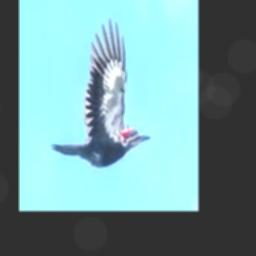Woodpecker: (50, 18, 151, 167)
